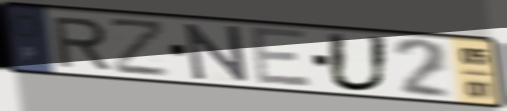2: (390, 36, 457, 100)
E: (247, 24, 316, 89)
N: (182, 22, 252, 84)
R: (49, 15, 114, 71)
U: (324, 30, 392, 95)
Z: (106, 18, 171, 78)
